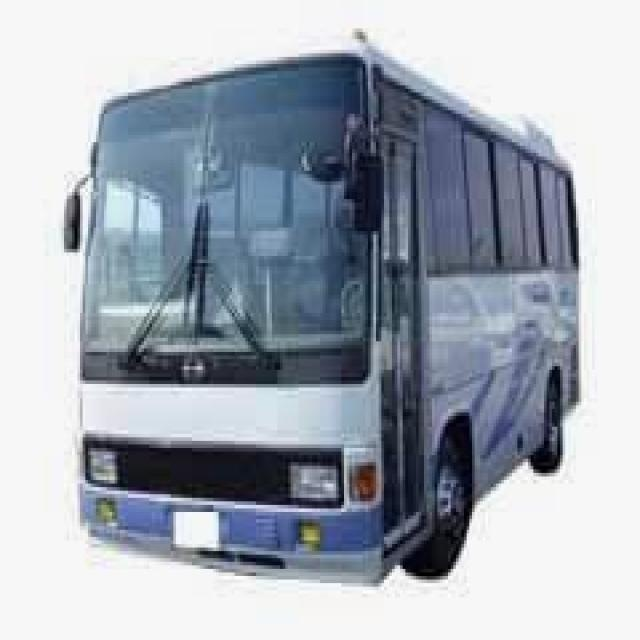Bus: (64, 43, 581, 601)
